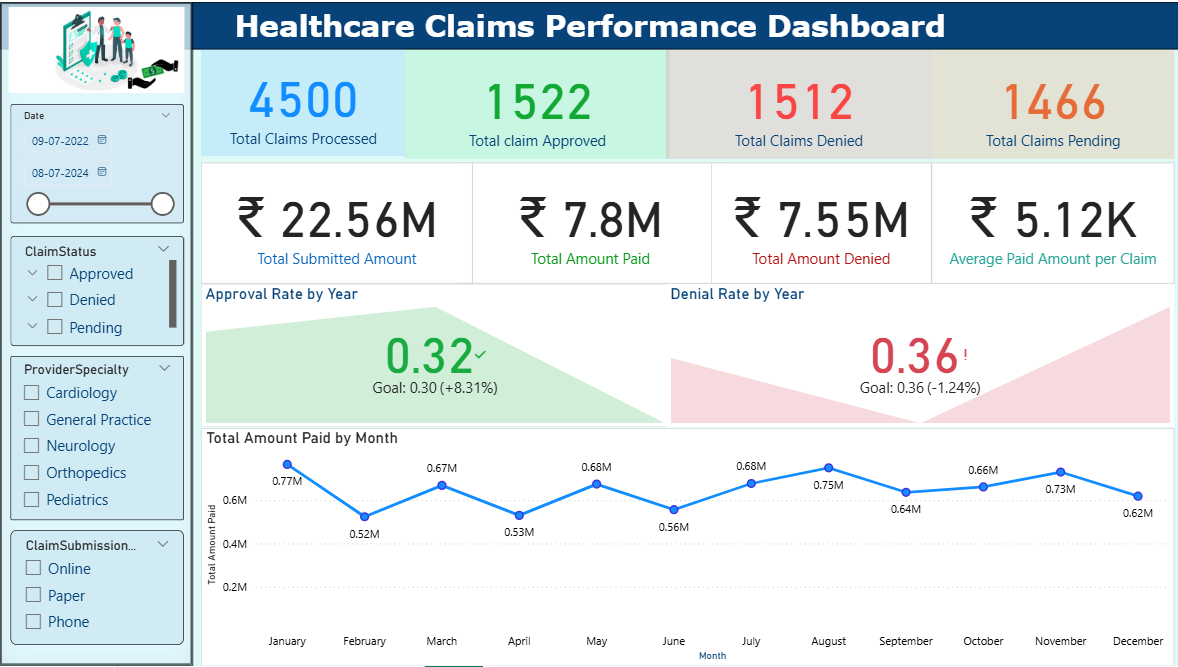

Layout of this report page (visuals, bound fields, positions):
{"tool":"powerbi","page":{"name":"High-Level KPIs","canvas":[1280,720],"ordinal":0},"visuals":[{"type":"textbox","box":[0,0,1280,51.6],"z":0},{"type":"card","fields":{"Values":["Measures (2).Total Claims Processed"]},"box":[217.6,50.8,221.5,117],"z":1000},{"type":"kpi","title":"Approval Rate by Year","fields":{"Indicator":["Measures (2).Approval Rate"],"TrendLine":["Dates.Year"],"Goal":["Measures (2).Approval TArget"]},"box":[217.9,305.4,507.7,155.6],"z":2000},{"type":"card","fields":{"Values":["Measures (2).Total Amount Paid"]},"box":[494.1,174.1,291.8,131.3],"z":3000},{"type":"card","fields":{"Values":["Measures (2).Average Paid Amount per Claim"]},"box":[1009.6,174.1,263.6,131.3],"z":4000},{"type":"card","fields":{"Values":["Measures (2).Total Amount Denied"]},"box":[770.3,174.1,239.3,131.3],"z":5000},{"type":"card","fields":{"Values":["Measures (2).Total Submitted Amount"]},"box":[217.9,174.1,294.7,131.3],"z":6000},{"type":"lineChart","fields":{"Category":["Dates.Month"],"Y":["Measures (2).Total Amount Paid"]},"box":[217.6,461.2,1055.6,258.9],"z":7000},{"type":"card","fields":{"Values":["Measures (2).Total Claims Processed"]},"box":[438.7,51.6,286.9,117.7],"z":8000},{"type":"card","fields":{"Values":["Measures (2).Total Claims Processed"]},"box":[721.7,51.6,287.9,117.7],"z":9000},{"type":"card","fields":{"Values":["Measures (2).Total Claims Processed"]},"box":[1009.6,51.6,263.6,117.7],"z":10000},{"type":"shape","box":[0,0,209.1,719.8],"z":11000},{"type":"image","box":[0,0,209,103.6],"z":12000},{"type":"slicer","fields":{"Values":["Dates.Date"]},"box":[10.7,110.9,187.7,129.4],"z":13000},{"type":"slicer","fields":{"Values":["enhanced_health_insurance_claims.ClaimStatus","enhanced_health_insurance_claims.ClaimType"]},"box":[10.7,253.9,187.7,119.6],"z":14000},{"type":"slicer","fields":{"Values":["enhanced_health_insurance_claims.ProviderSpecialty"]},"box":[10.7,383.2,187.7,178],"z":15000},{"type":"slicer","fields":{"Values":["enhanced_health_insurance_claims.ClaimSubmissionMethod"]},"box":[10.7,571.9,187.7,124.5],"z":16000},{"type":"kpi","title":"Denial Rate by Year","fields":{"Indicator":["Measures (2).Denial Rate"],"TrendLine":["Dates.Year"],"Goal":["Measures (2).Denial Traget"]},"box":[721.7,305.4,551.5,155.6],"z":17000},{"type":"image","box":[133.3,45.7,65.2,65.2],"z":18000}]}

Visuals, with their boxes on the page's 1280x720 design canvas (x1, y1, x2, y2). These are canvas units, not pixel positions in the 1178x667 screenshot, which may show the page scaled, cropped or inside an application window:
textbox: pyautogui.locateOnScreen(0, 0, 1280, 52)
card - Measures (2).Total Claims Processed: pyautogui.locateOnScreen(218, 51, 439, 168)
"Approval Rate by Year" kpi: pyautogui.locateOnScreen(218, 305, 726, 461)
card - Measures (2).Total Amount Paid: pyautogui.locateOnScreen(494, 174, 786, 305)
card - Measures (2).Average Paid Amount per Claim: pyautogui.locateOnScreen(1010, 174, 1273, 305)
card - Measures (2).Total Amount Denied: pyautogui.locateOnScreen(770, 174, 1010, 305)
card - Measures (2).Total Submitted Amount: pyautogui.locateOnScreen(218, 174, 513, 305)
lineChart - Dates.Month x Measures (2).Total Amount Paid: pyautogui.locateOnScreen(218, 461, 1273, 720)
card - Measures (2).Total Claims Processed: pyautogui.locateOnScreen(439, 52, 726, 169)
card - Measures (2).Total Claims Processed: pyautogui.locateOnScreen(722, 52, 1010, 169)
card - Measures (2).Total Claims Processed: pyautogui.locateOnScreen(1010, 52, 1273, 169)
shape: pyautogui.locateOnScreen(0, 0, 209, 720)
image: pyautogui.locateOnScreen(0, 0, 209, 104)
slicer - Dates.Date: pyautogui.locateOnScreen(11, 111, 198, 240)
slicer - enhanced_health_insurance_claims.ClaimStatus x enhanced_health_insurance_claims.ClaimType: pyautogui.locateOnScreen(11, 254, 198, 374)
slicer - enhanced_health_insurance_claims.ProviderSpecialty: pyautogui.locateOnScreen(11, 383, 198, 561)
slicer - enhanced_health_insurance_claims.ClaimSubmissionMethod: pyautogui.locateOnScreen(11, 572, 198, 696)
"Denial Rate by Year" kpi: pyautogui.locateOnScreen(722, 305, 1273, 461)
image: pyautogui.locateOnScreen(133, 46, 198, 111)
